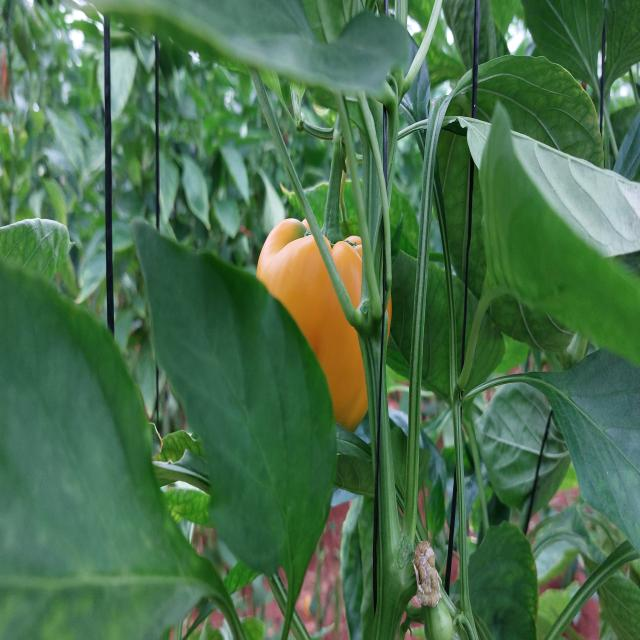Yellow-Ready-to-Harvest: (254, 217, 391, 428)
